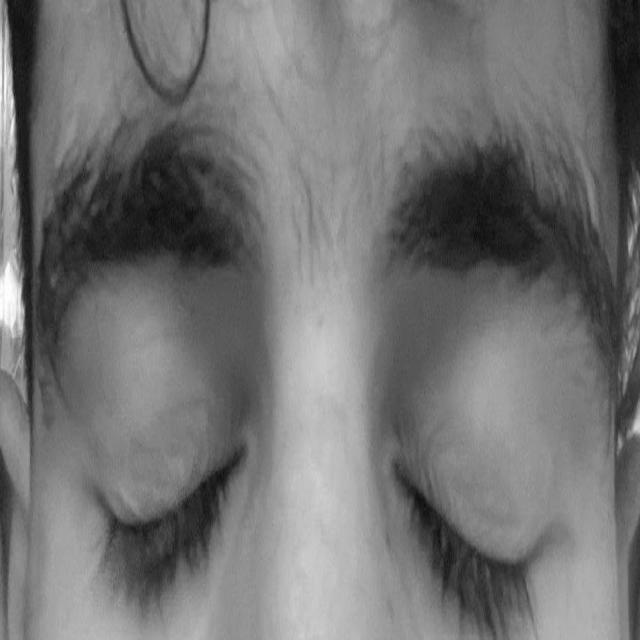real: (53, 318, 601, 637)
